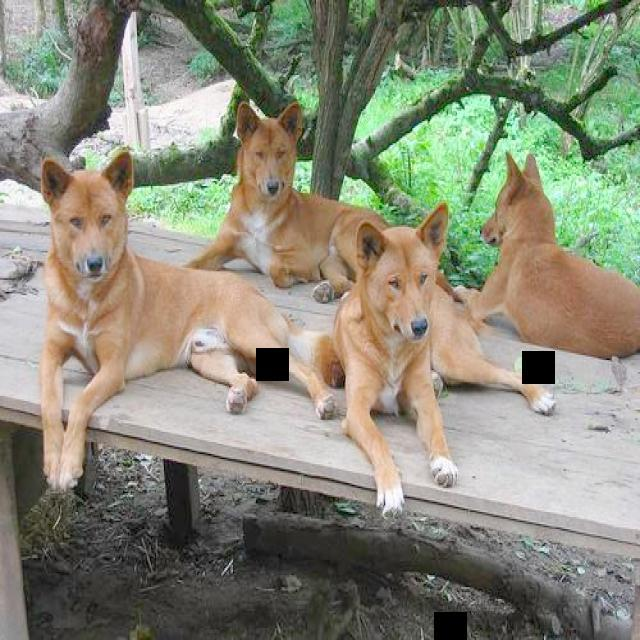adult_dog: (36, 149, 339, 496), (304, 201, 558, 518), (182, 97, 390, 303), (461, 148, 640, 361)
